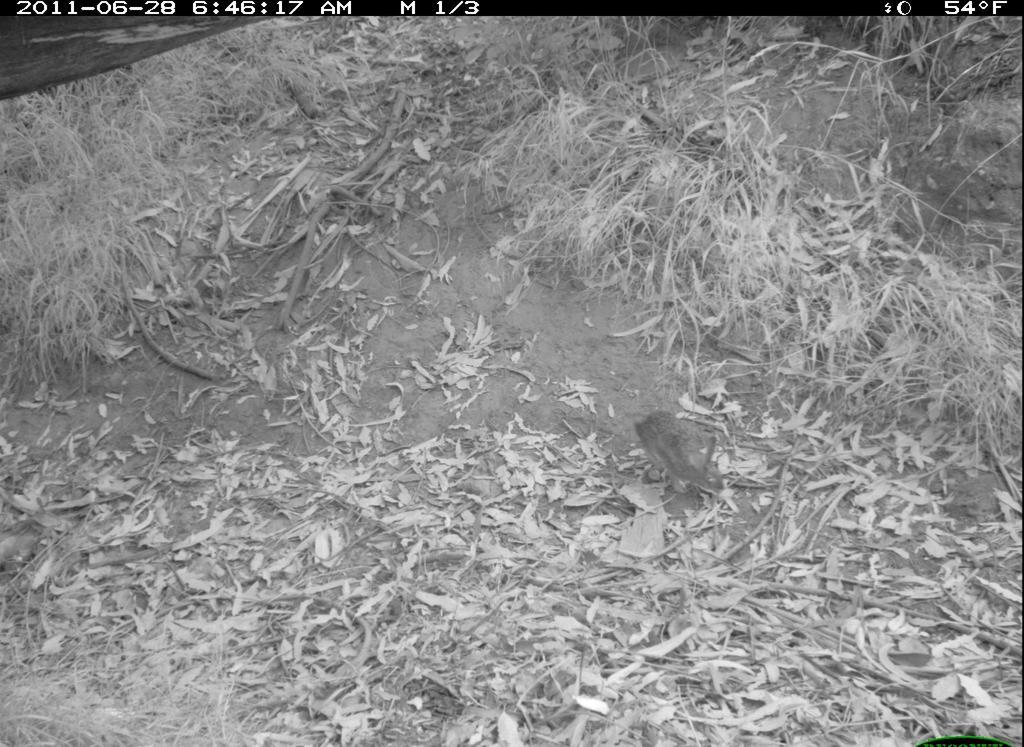rabbit: (630, 399, 732, 502)
